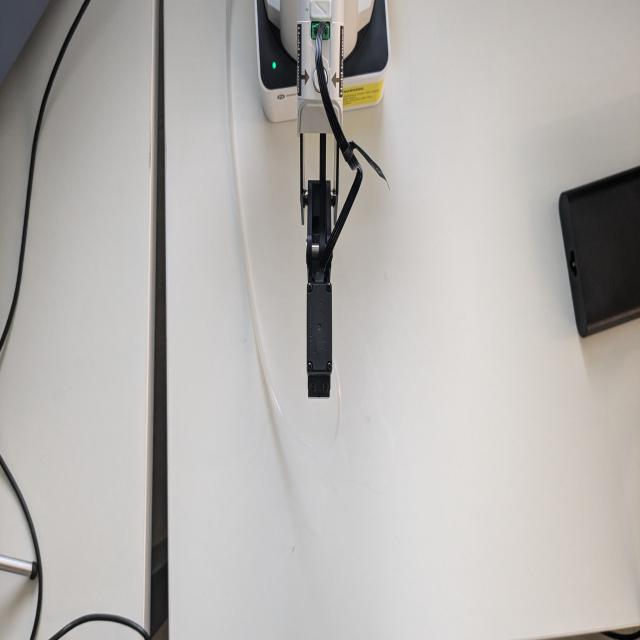Robot-end-effector-HF8z: (302, 260, 336, 398)
